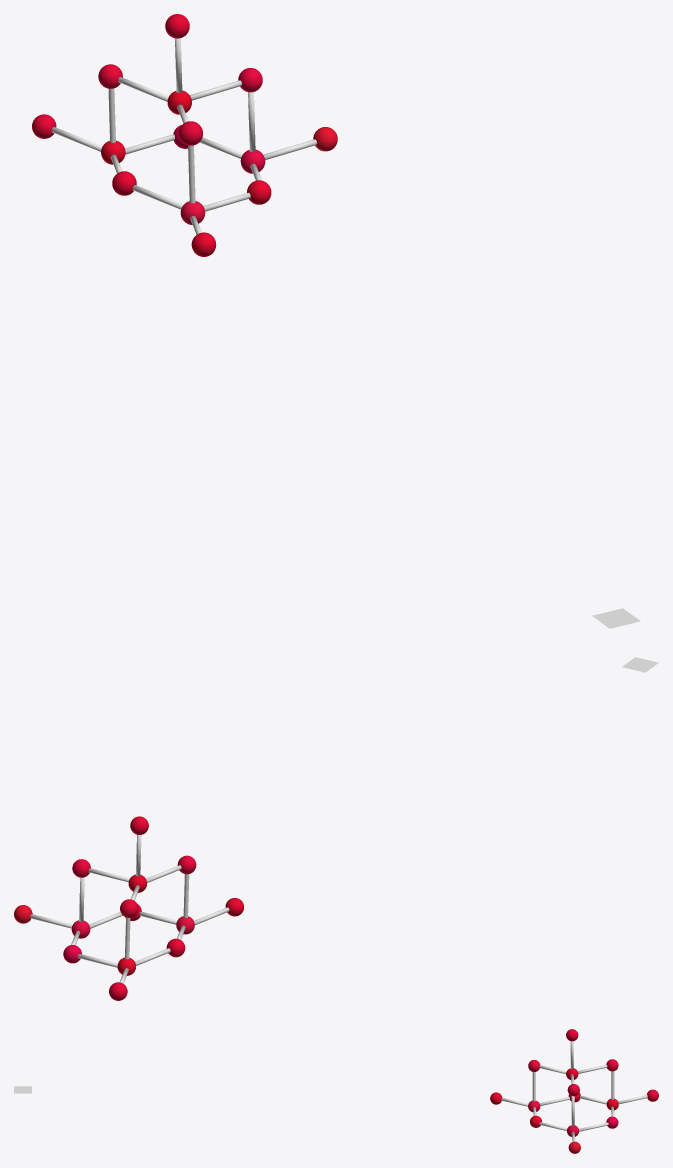
File: Diamond Atom Bonding.glb
3 views of the same model, one above another, from view 1: azimuth 30°, elevation 25°; view 2: azimuth 150°, elevation 25°; view 3: azimuth 270°, elevation 25° (orthographic). The views are drawn at different scales.
Bounding box in the file's own units: 18.45 × 10.85 × 71.82.
